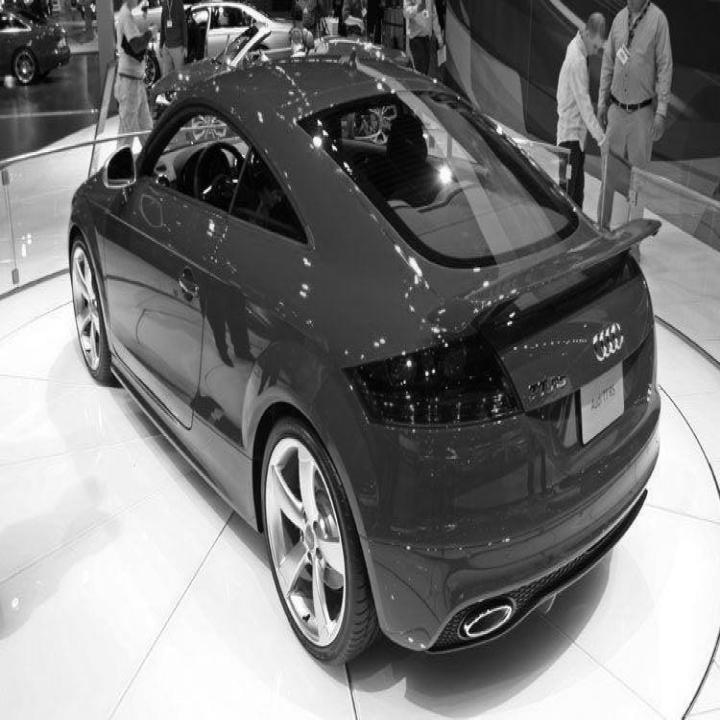car: (66, 34, 662, 668), (128, 0, 294, 91), (0, 7, 71, 86)
plat: (580, 362, 626, 446)
